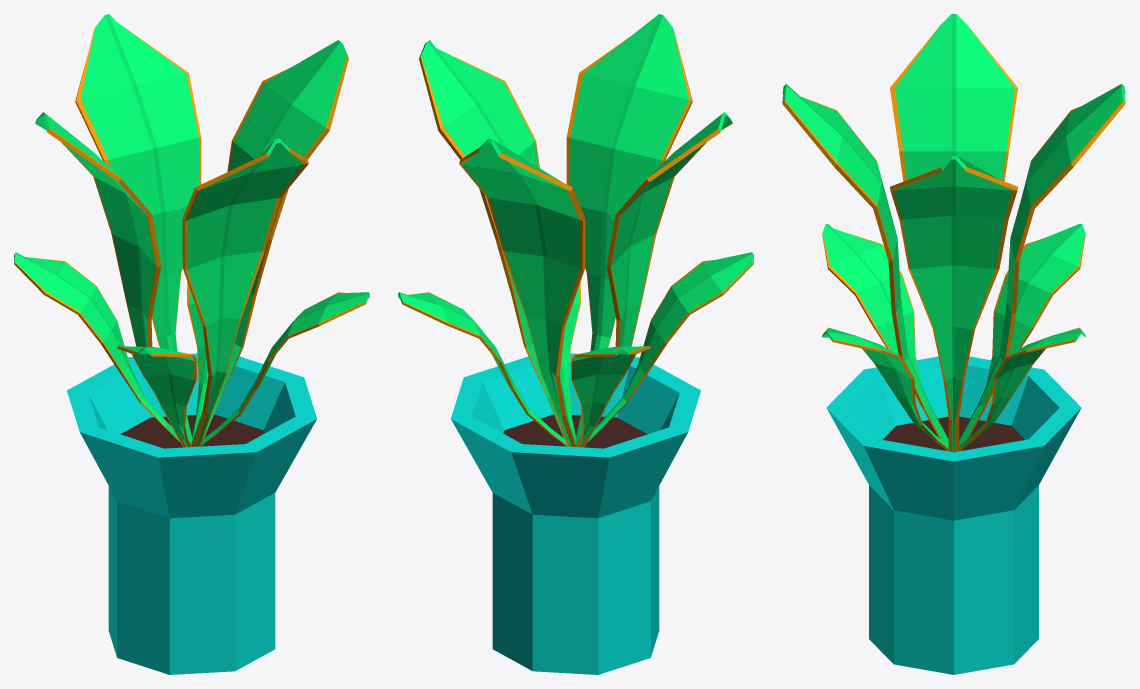
File: Plant_2.fbx
3 renders of one model, left to right at view 1: azimuth 30°, elevation 25°; view 2: azimuth 150°, elevation 25°; view 3: azimuth 270°, elevation 25°, orthographic.
Parts seen in each view (by area): view 1: Plant; view 2: Plant; view 3: Plant.
Part boxes in pixels (bbox=[...]): Plant: bbox=[14, 14, 369, 674]; Plant: bbox=[398, 14, 753, 674]; Plant: bbox=[782, 14, 1125, 674].
Size of the model in its own units: 80.7 by 144 by 80.7.
